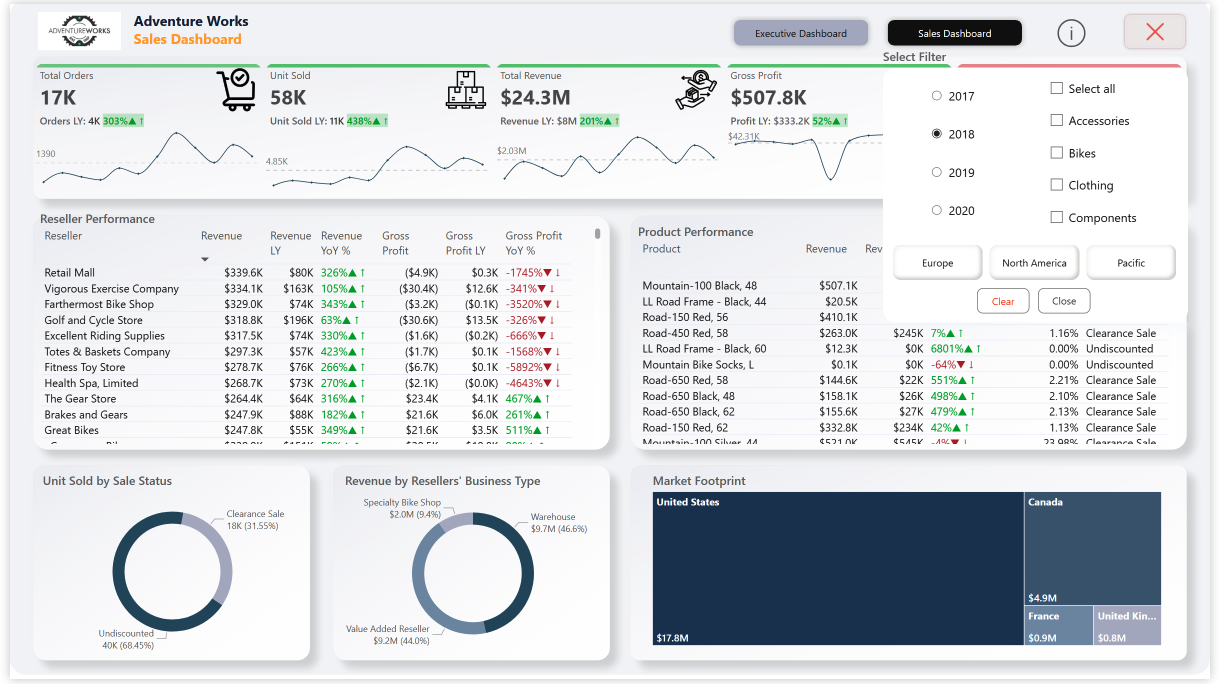

This screenshot's page, from the dashboard's own definition file:
{"tool":"powerbi","page":{"name":"Sales Dashboard","canvas":[1600,900],"ordinal":1},"visuals":[{"type":"textbox","box":[160,4,330.7,64],"z":0},{"type":"cardVisual","title":"KPI Card","fields":{"Data":["Key Metrics.orders","Key Metrics.unit_sold","Key Metrics.gross_sales","Key Metrics.gross_profit","Key Metrics.profit_margin %"]},"box":[27.1,74.3,1544.2,180.7],"z":0,"group":"g1"},{"type":"pageNavigator","box":[957.3,13.3,400,50.7],"z":1000},{"type":"actionButton","title":"Info Button","box":[1385.3,13.3,60,50.7],"z":1000,"group":"g2"},{"type":"lineChart","title":"MonthlyOrderTrend","fields":{"Category":["dim_date.Date.Variation.Date Hierarchy.Month"],"Y":["Key Metrics.orders"]},"box":[34.4,161,298.3,86.7],"z":1000,"group":"g1"},{"type":"lineChart","fields":{"Y":["Key Metrics.unit_sold"],"Category":["dim_date.Date.Variation.Date Hierarchy.Month"]},"box":[341.7,161.6,299,86],"z":2000,"group":"g1"},{"type":"donutChart","title":"Revenue by Resellers'' Business Type","fields":{"Category":["dim_reseller.business type"],"Y":["Key Metrics.gross_sales"]},"box":[446.7,624,341.3,244],"z":2000},{"type":"lineChart","fields":{"Category":["dim_date.Date.Variation.Date Hierarchy.Month"],"Y":["Key Metrics.gross_sales"]},"box":[649.7,161.6,299,86],"z":3000,"group":"g1"},{"type":"tableEx","title":"  Reseller Performance","fields":{"Values":["dim_reseller.reseller","Key Metrics.gross_sales","Key Metrics.gross_sales_LY","Key Metrics.sales YoY % Chng","Key Metrics.gross_profit","Key Metrics.gross_profit_LY","Key Metrics.profit YoY % Chng"]},"box":[40,274.7,748,312],"z":3000},{"type":"lineChart","fields":{"Category":["dim_date.Date.Variation.Date Hierarchy.Month"],"Y":["Key Metrics.gross_profit"]},"box":[957.7,161.6,299,86],"z":4000,"group":"g1"},{"type":"treemap","title":"Market Footprint","fields":{"Values":["Key Metrics.gross_sales"],"Group":["dim_region.country"]},"box":[852,624,688,236],"z":4000},{"type":"group","id":"g1","title":"KPI Charts","box":[27.1,74.3,1544.2,180.7],"z":5000},{"type":"lineChart","fields":{"Category":["dim_date.Date.Variation.Date Hierarchy.Month"],"Y":["Key Metrics.profit_margin %"]},"box":[1265.7,161,299.7,86.7],"z":5000,"group":"g1"},{"type":"tableEx","title":"Product Performance","fields":{"Values":["dim_product.product","Key Metrics.gross_sales","Key Metrics.gross_sales_LY","Key Metrics.sales YoY % Chng","Key Metrics.discount_pct","Key Metrics.Pricing Group"]},"box":[837.3,292,718.7,294.7],"z":6000},{"type":"donutChart","fields":{"Category":["fact_sales.SaleStatus"],"Y":["Key Metrics.unit_sold"]},"box":[38.7,624,356,244],"z":7000},{"type":"actionButton","title":"Show Button","box":[1482.7,10.7,88,53.3],"z":9000},{"type":"group","id":"g2","title":"Info Group","box":[1157.3,13.3,290.7,180],"z":11000},{"type":"image","box":[37.3,10.7,110.7,50.7],"z":11001}]}

Visuals, with their boxes in screenshot pixels (x1, y1, x2, y2), scaled from the page's 1600x900 canvas onto the 1219x684 screenshot:
textbox: region(122, 3, 374, 52)
"KPI Card" cardVisual: region(21, 56, 1197, 194)
pageNavigator: region(729, 10, 1034, 49)
"Info Button" actionButton: region(1055, 10, 1101, 49)
"MonthlyOrderTrend" lineChart: region(26, 122, 253, 188)
lineChart - Key Metrics.unit_sold x dim_date.Date.Variation.Date Hierarchy.Month: region(260, 123, 488, 188)
"Revenue by Resellers'' Business Type" donutChart: region(340, 474, 600, 660)
lineChart - dim_date.Date.Variation.Date Hierarchy.Month x Key Metrics.gross_sales: region(495, 123, 723, 188)
"  Reseller Performance" tableEx: region(30, 209, 600, 446)
lineChart - dim_date.Date.Variation.Date Hierarchy.Month x Key Metrics.gross_profit: region(730, 123, 957, 188)
"Market Footprint" treemap: region(649, 474, 1173, 654)
"KPI Charts" group: region(21, 56, 1197, 194)
lineChart - dim_date.Date.Variation.Date Hierarchy.Month x Key Metrics.profit_margin %: region(964, 122, 1193, 188)
"Product Performance" tableEx: region(638, 222, 1185, 446)
donutChart - fact_sales.SaleStatus x Key Metrics.unit_sold: region(29, 474, 301, 660)
"Show Button" actionButton: region(1130, 8, 1197, 49)
"Info Group" group: region(882, 10, 1103, 147)
image: region(28, 8, 113, 47)
